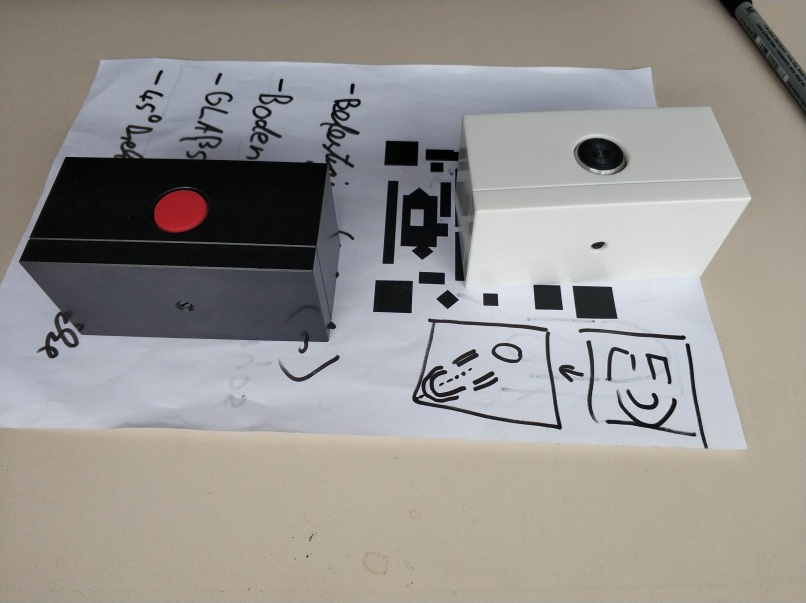black+black+red: (16, 153, 344, 344)
white+white+silver: (449, 101, 757, 292)
